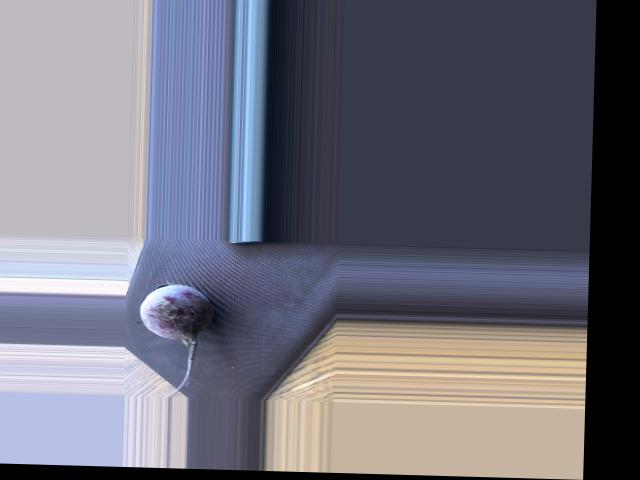beet: (138, 283, 214, 398)
